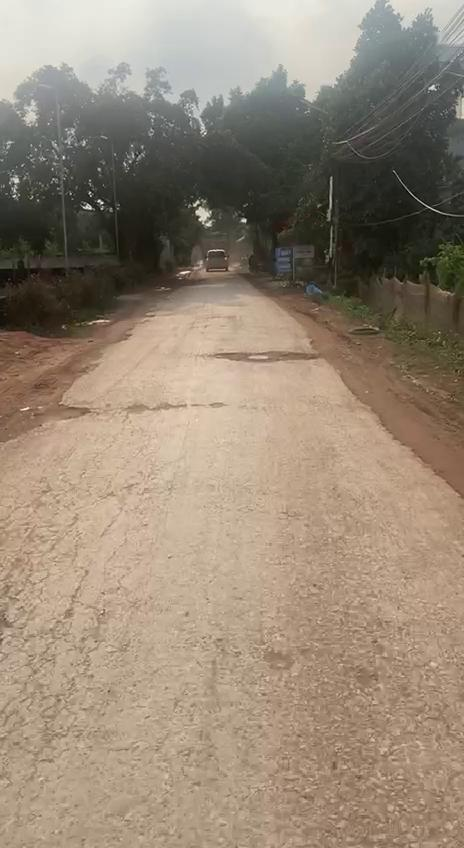pothole: (211, 342, 318, 366), (42, 396, 99, 426)
